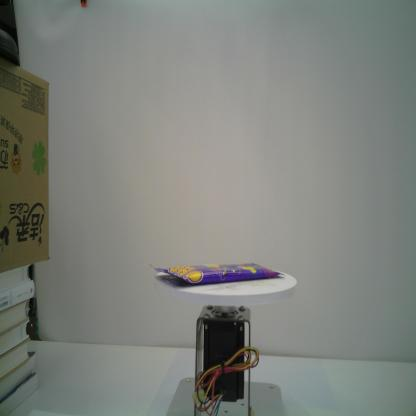Candy: (148, 262, 286, 286)
